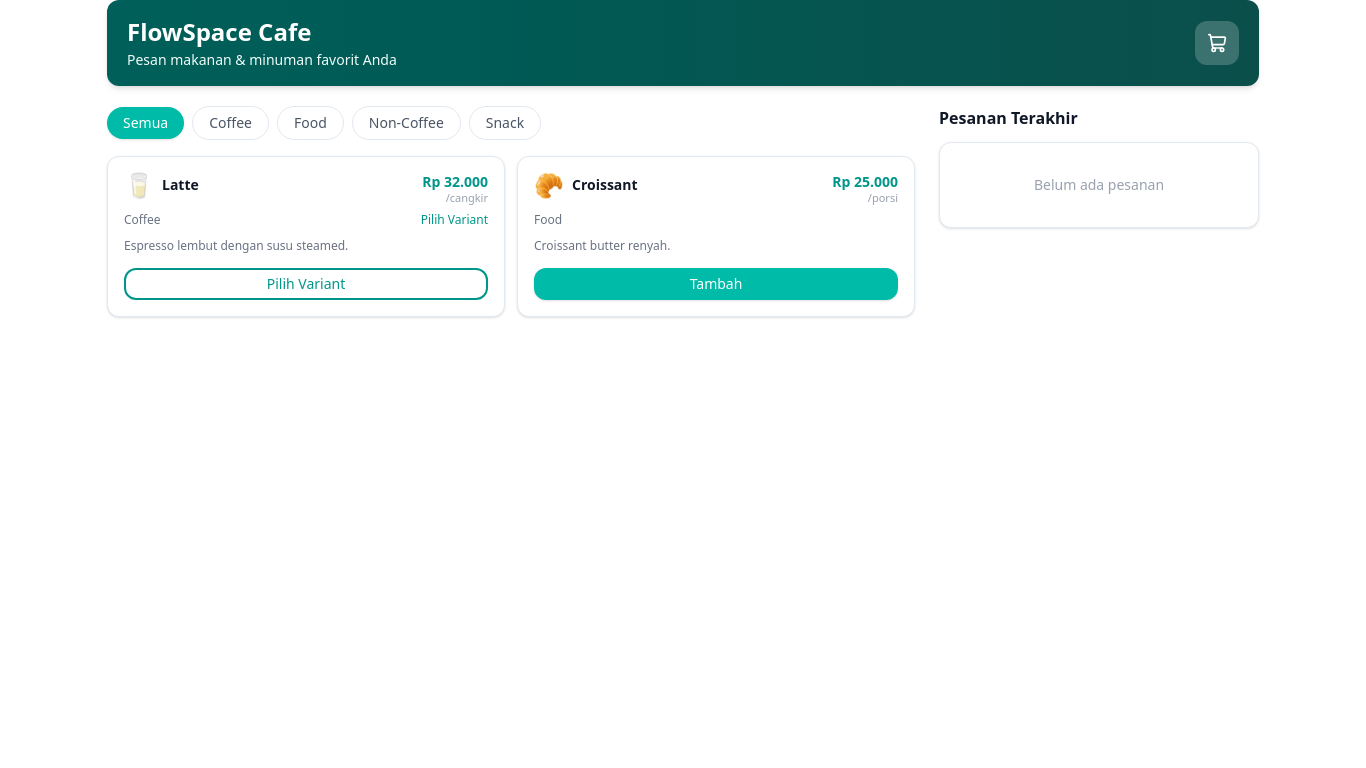
Test: CafeClient (AC-101) › AC-102: shows mapped Indonesian error when placeOrder rejects with INVALID_MENU_ITEMS
The width and height of the screenshot is (1366, 768).
Note: Add croissant to cart (no variant, direct add)
What coordinates should you click on to do the following:
click the button "Tambah"
I would click on:
 (716, 284)
Its box is [534, 268, 898, 300].
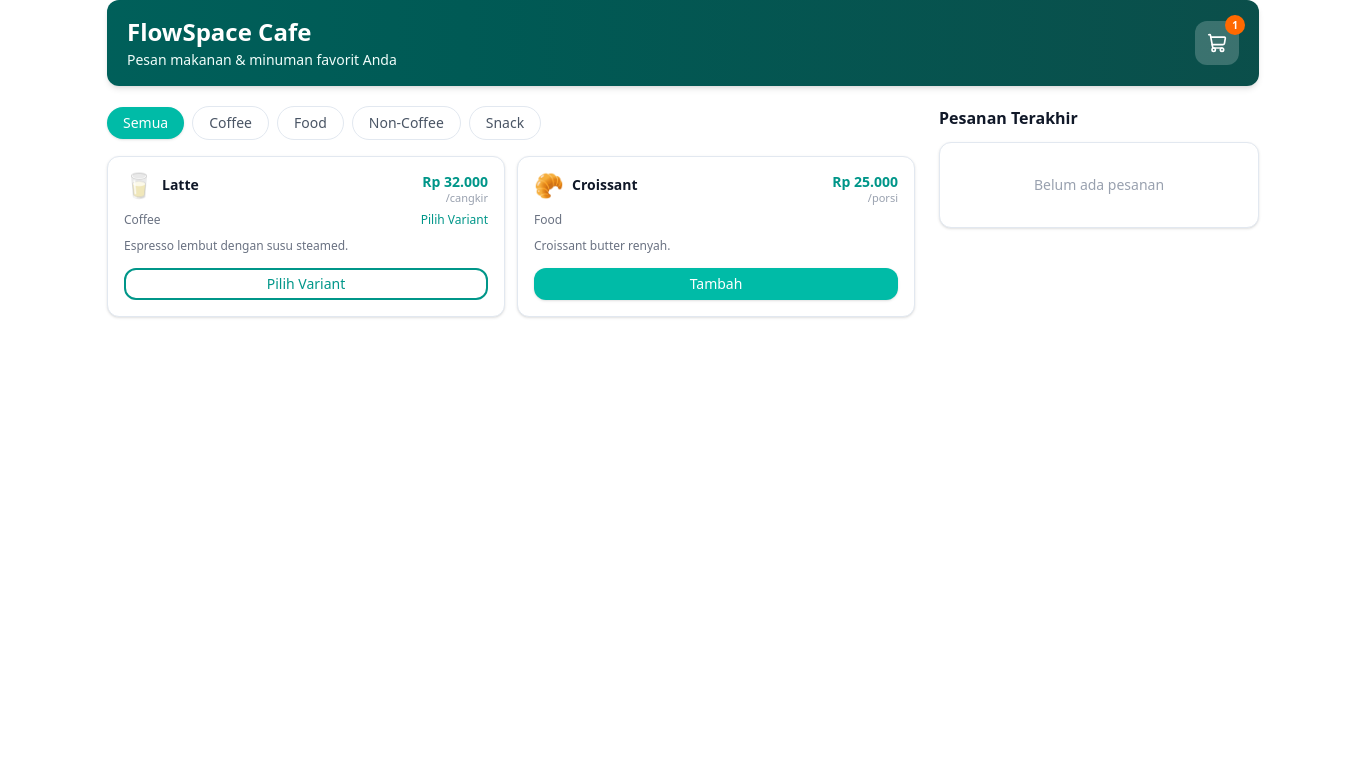
Note: Open cart
What coordinates should you click on to do the following:
click the button named "buka keranjang"
I would click on:
 (1217, 43)
Its box is [1195, 21, 1239, 65].
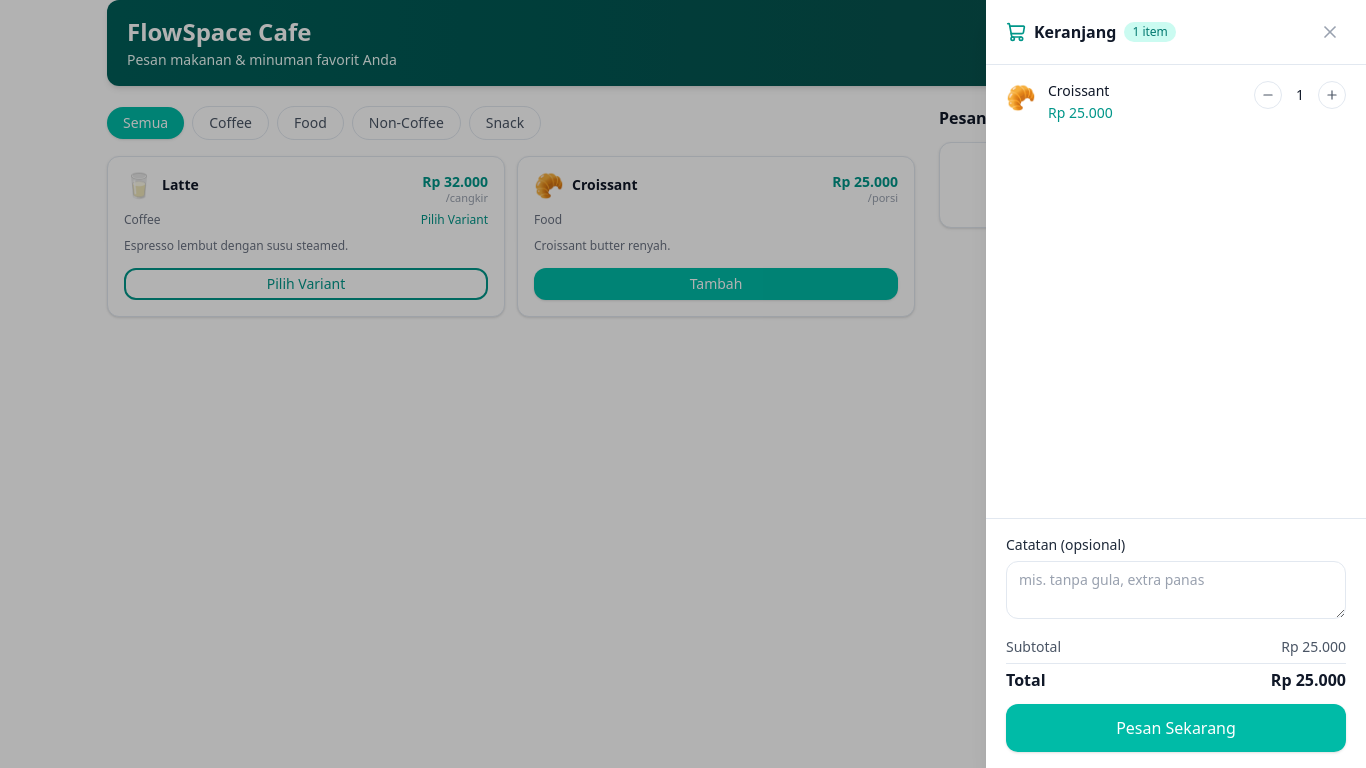
Note: Click "Pesan Sekarang" in cart panel
What coordinates should you click on to do the following:
click the button "Pesan Sekarang"
I would click on:
 (1176, 728)
Its box is [1006, 704, 1346, 752].
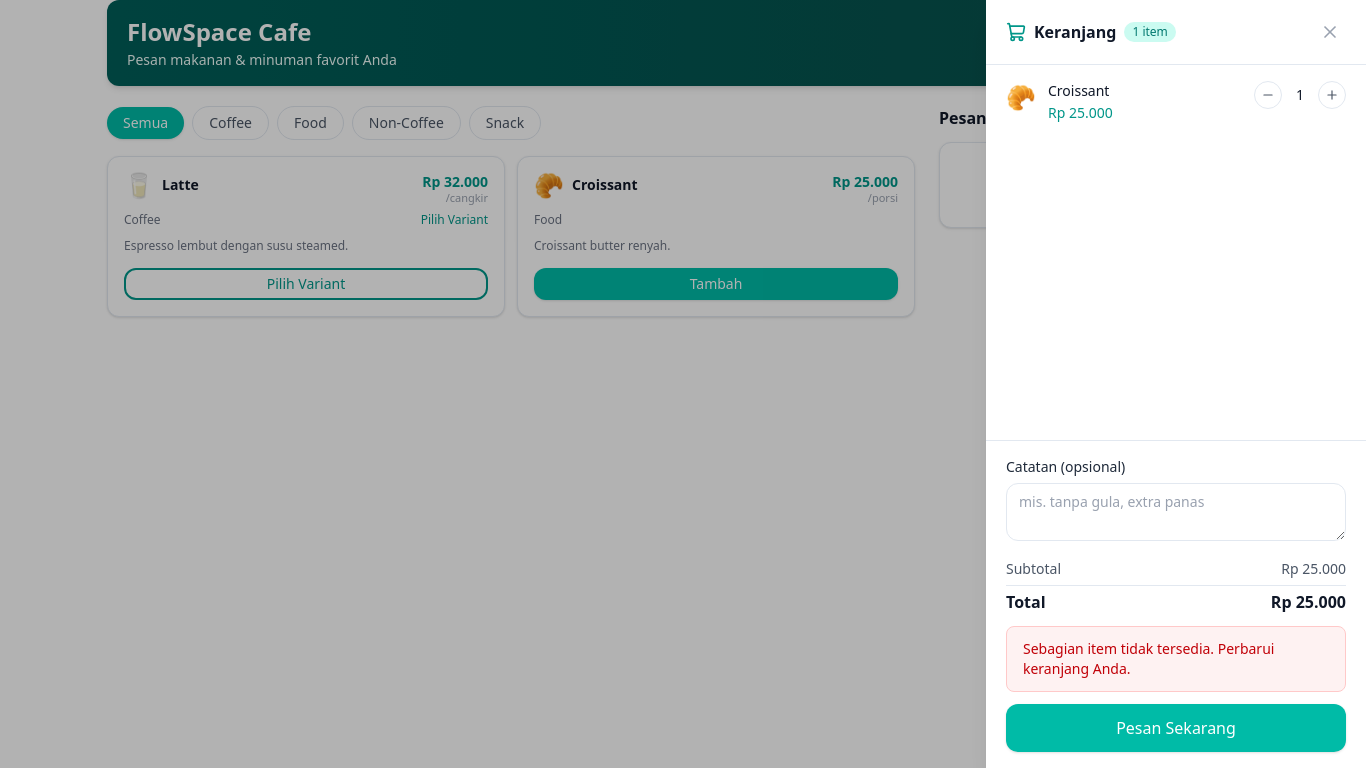
Result: the button "Pesan Sekarang" is enabled at [1006, 704, 1346, 752]
Result: the message shows "Sebagian item tidak tersedia" at [1023, 639, 1274, 678]
